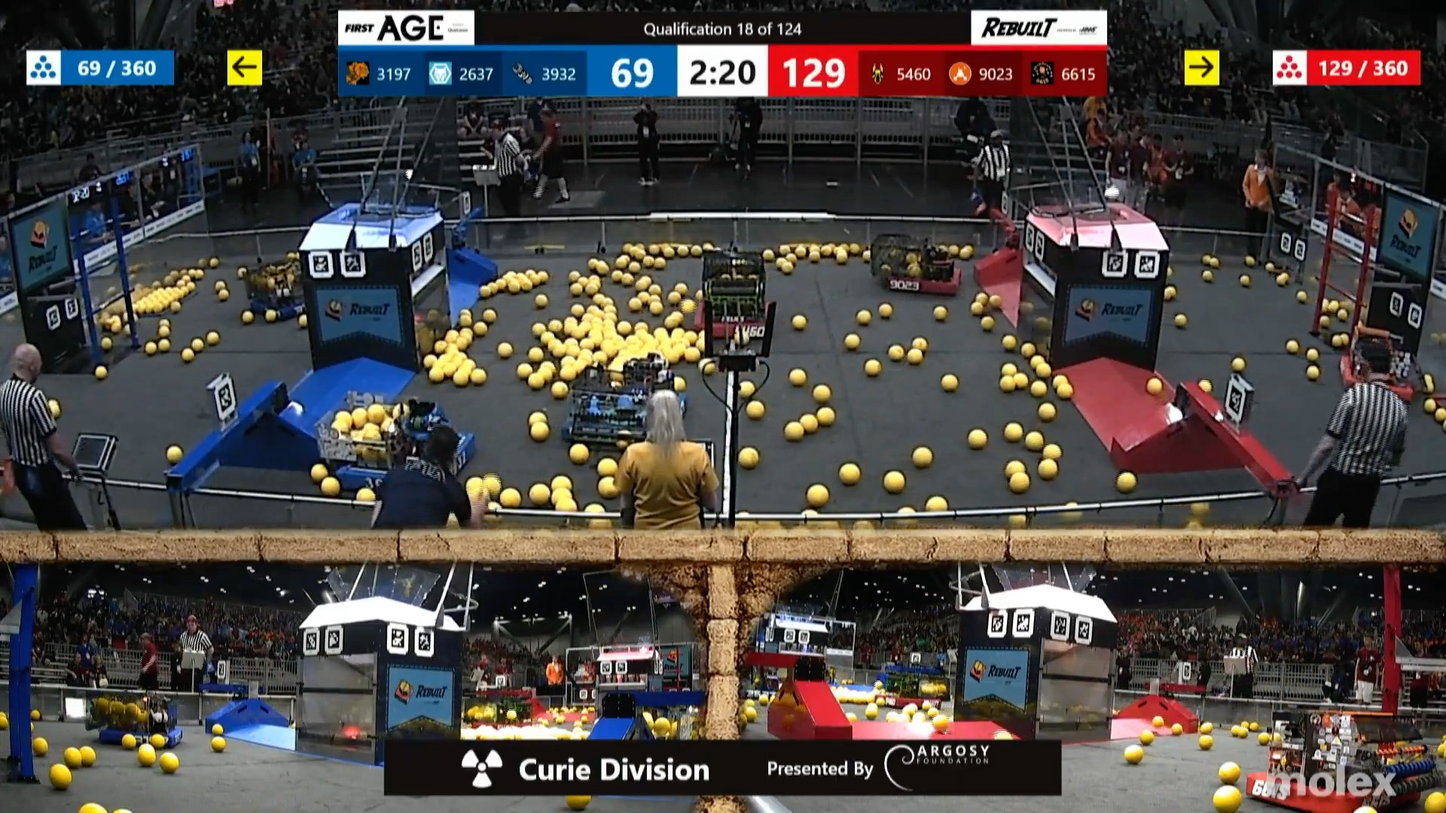bumpers: (326, 431, 477, 496), (1246, 766, 1446, 813), (560, 393, 691, 448), (1336, 348, 1417, 414), (690, 289, 776, 345), (95, 715, 194, 756), (872, 263, 973, 298), (238, 289, 330, 325)
